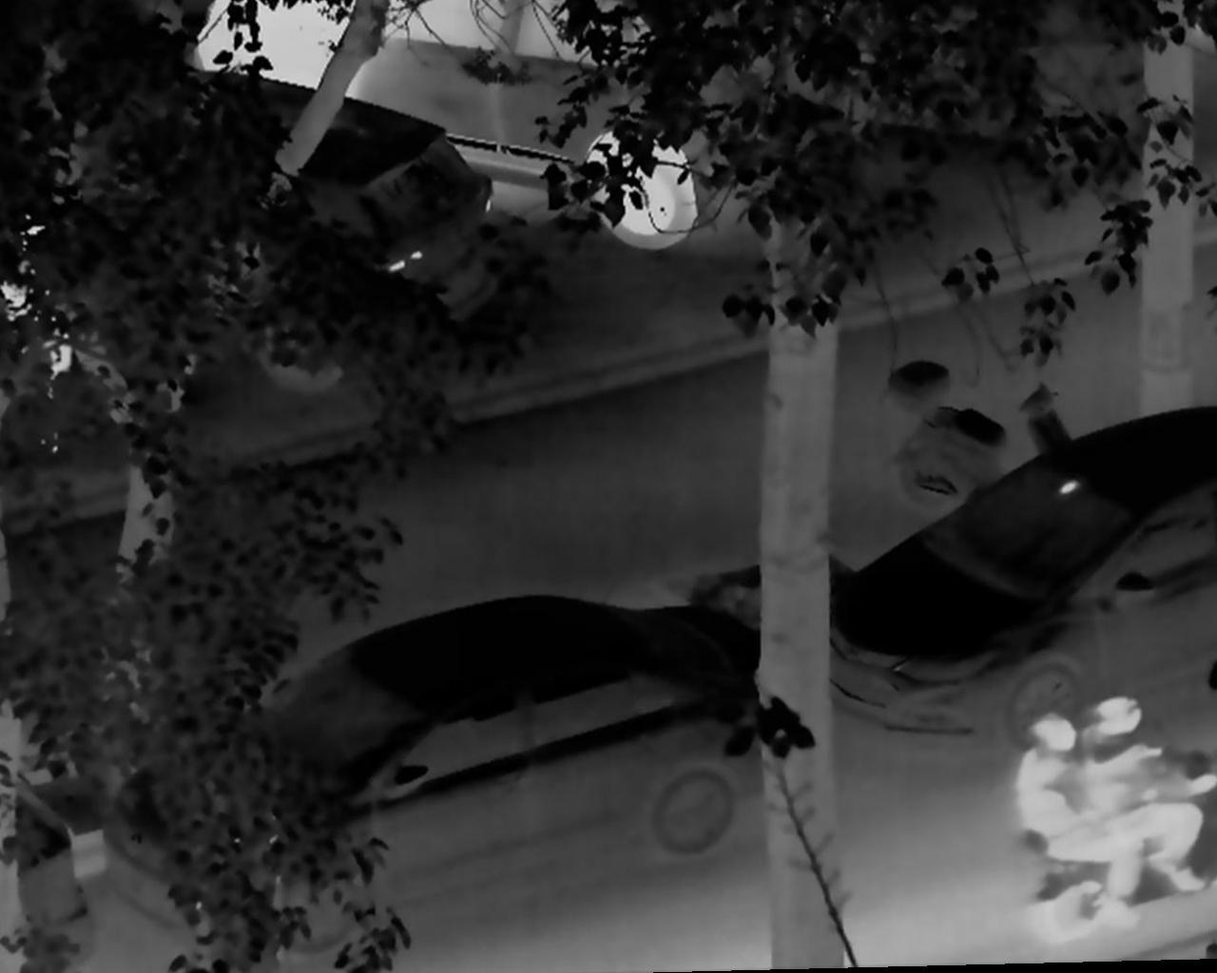person: (1066, 681, 1215, 904), (1005, 713, 1142, 935)
